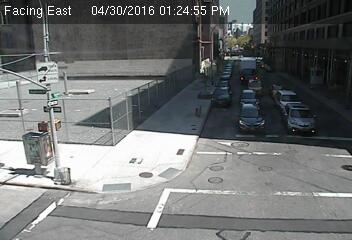neg: (33, 124, 91, 202), (217, 68, 256, 120), (170, 149, 204, 194), (313, 139, 345, 182), (24, 56, 56, 98), (131, 53, 160, 91), (109, 124, 137, 161)
